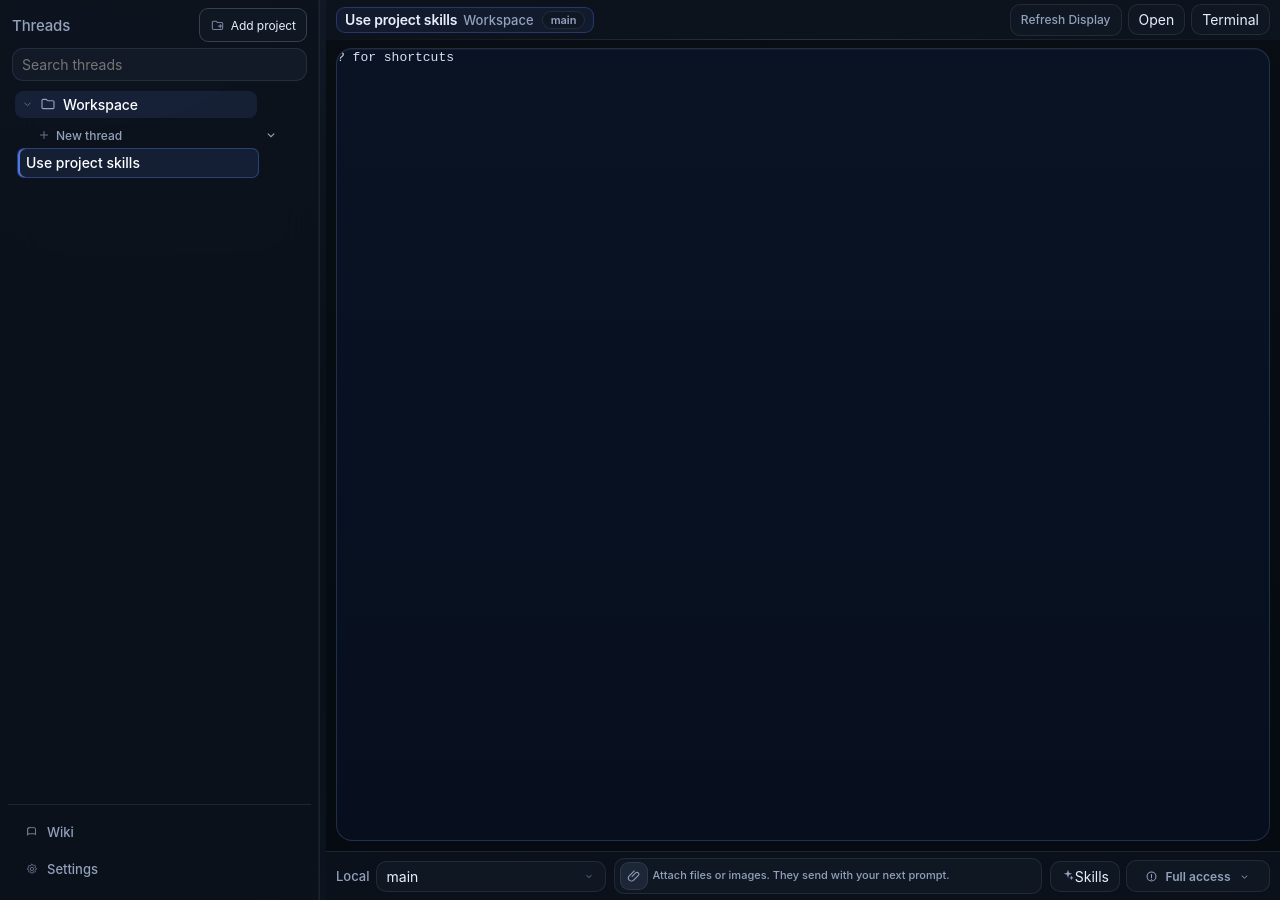
Test: Skills management › shows a no-match state when search excludes every skill
Step 1. Click the button "Skills" → coordinates (1085, 876), box [1050,860,1120,892]
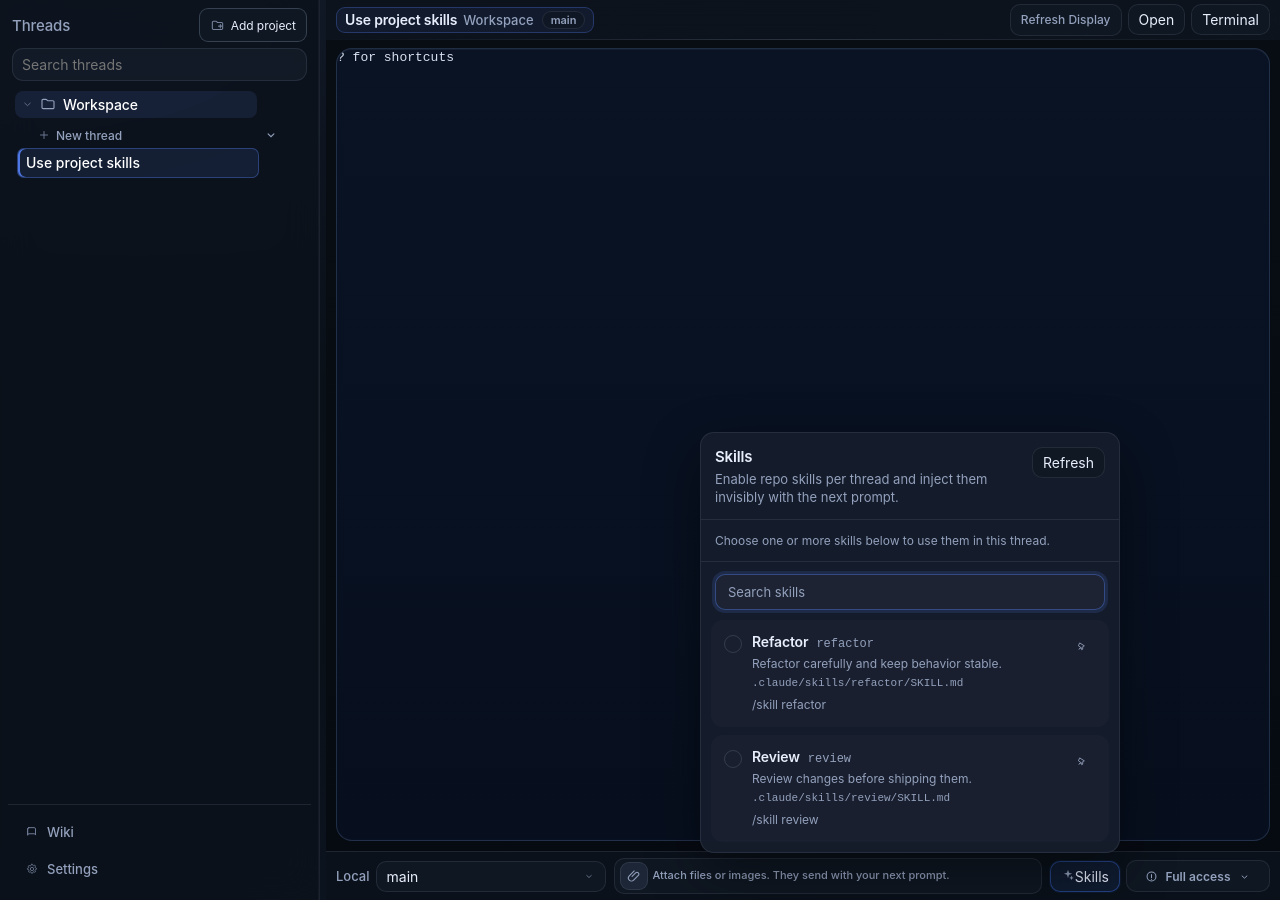
Step 2. Type "totally missing" into the search field labelled "Search skills" → coordinates (910, 592), box [715,574,1105,610]
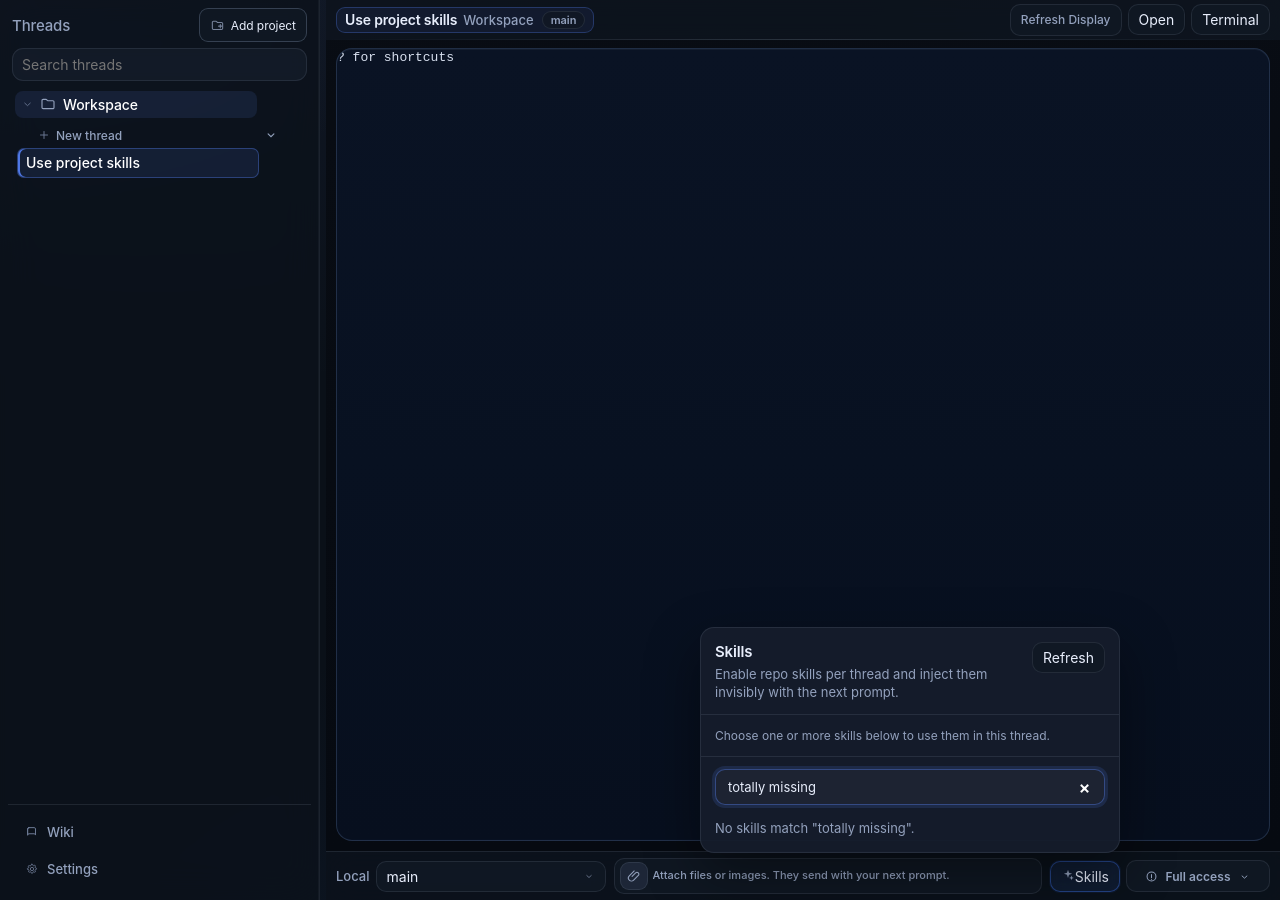
Expected: the message reads "No skills match \"totally missing\".", [715,820,914,836]
